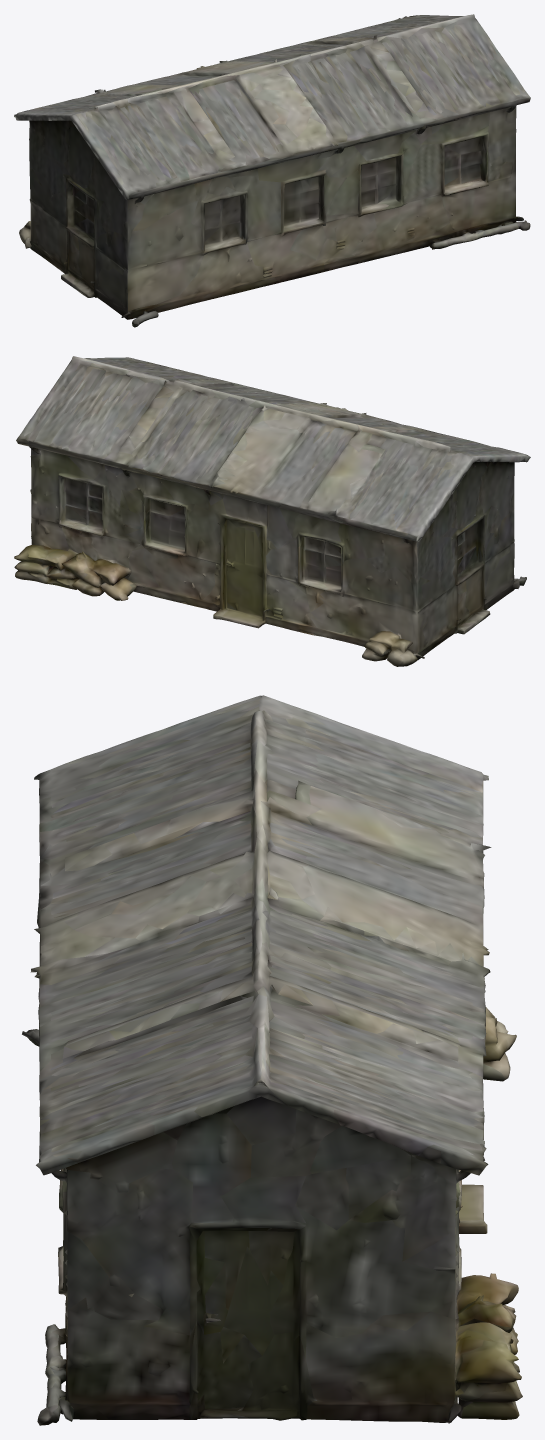
Rendered from base_barracks.glb.
The picture shows the model from 3 angles, top to bottom: view 1: azimuth 30°, elevation 25°; view 2: azimuth 150°, elevation 25°; view 3: azimuth 270°, elevation 25°; orthographic projection. The views are drawn at different scales.
Parts seen in each view (by area): view 1: tripo_node_9f408f2b-b357-421d-a181-344557926b60; view 2: tripo_node_9f408f2b-b357-421d-a181-344557926b60; view 3: tripo_node_9f408f2b-b357-421d-a181-344557926b60.
Part boxes in pixels (x1,y1,x2,y2): tripo_node_9f408f2b-b357-421d-a181-344557926b60: [14, 14, 530, 327]; tripo_node_9f408f2b-b357-421d-a181-344557926b60: [14, 356, 530, 666]; tripo_node_9f408f2b-b357-421d-a181-344557926b60: [22, 695, 522, 1425].
Bounding box in the file's own units: 1 × 0.4176 × 0.5379.
Materials: 1 (1 with a texture image).
